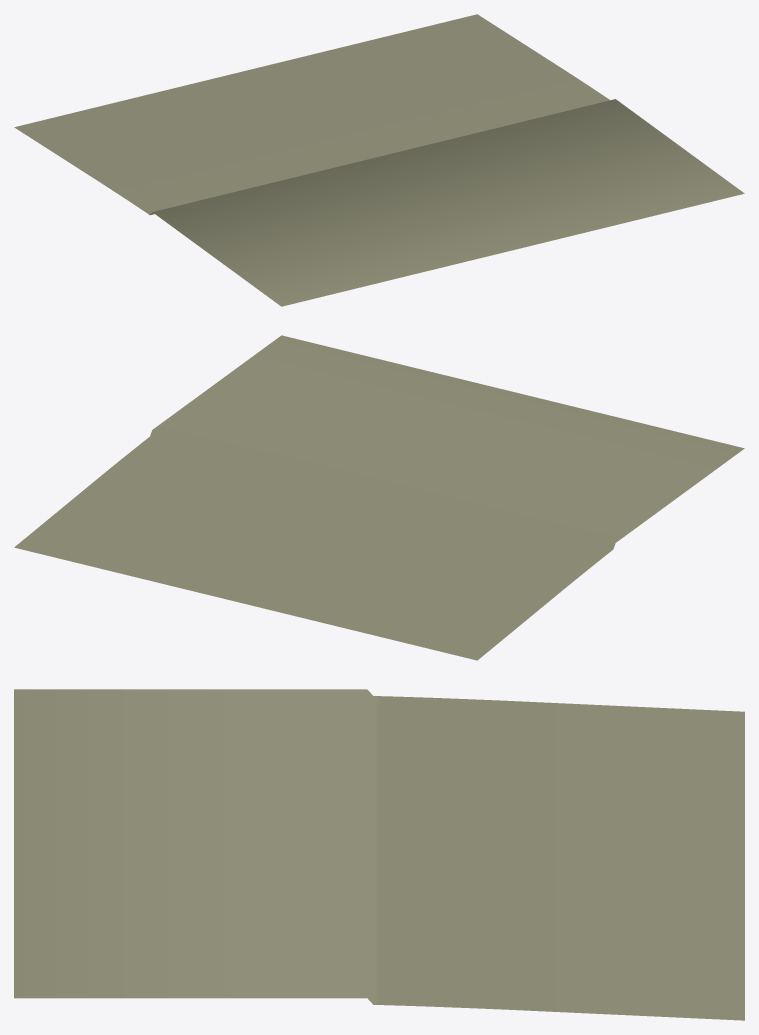
Rendered from SM_VB_CityTerrain_5_2.fbx.
The picture shows the model from 3 angles, top to bottom: view 1: azimuth 30°, elevation 25°; view 2: azimuth 150°, elevation 25°; view 3: azimuth 270°, elevation 25°; orthographic projection. The views are drawn at different scales.
Visible parts, largest first — view 1: SM_VB_CityTerrain_5_2; view 2: SM_VB_CityTerrain_5_2; view 3: SM_VB_CityTerrain_5_2.
Boxes of the visible parts, box(x1,y1,x2,y2) form: SM_VB_CityTerrain_5_2: box(14, 14, 744, 306); SM_VB_CityTerrain_5_2: box(14, 335, 744, 660); SM_VB_CityTerrain_5_2: box(14, 689, 744, 1020).
Bounding box in the file's own units: 600 × 20.29 × 600.
